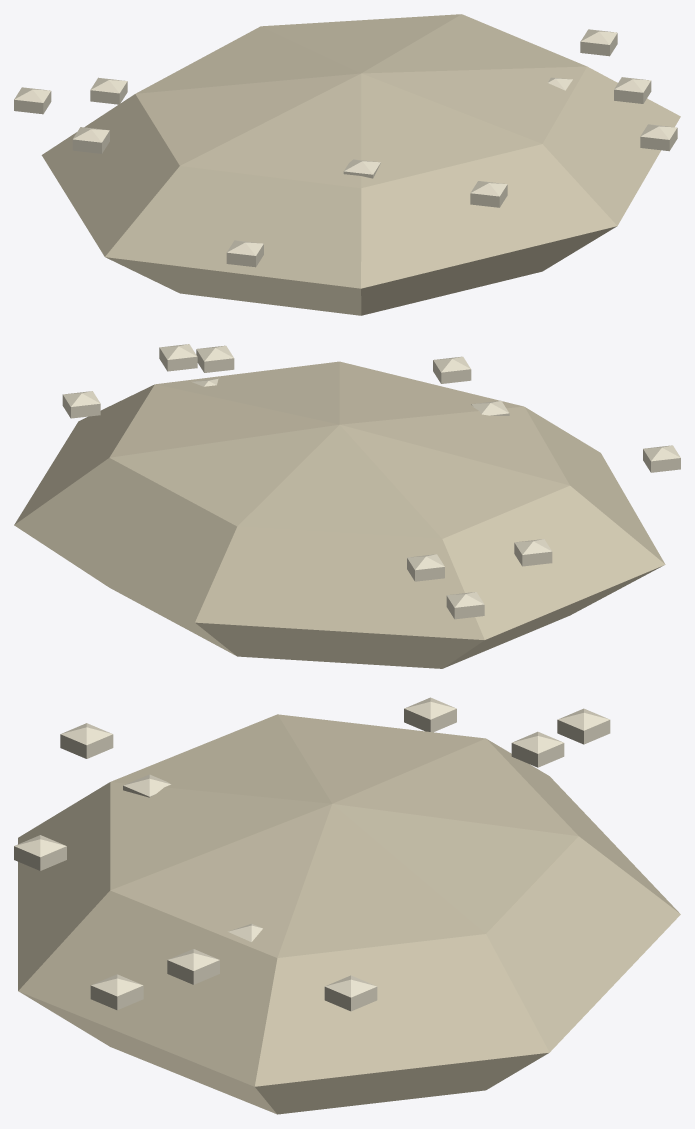
File: a3c_shell_heap.glb
The picture shows the model from 3 angles, top to bottom: view 1: azimuth 30°, elevation 25°; view 2: azimuth 150°, elevation 25°; view 3: azimuth 270°, elevation 25°; orthographic projection. The views are drawn at different scales.
Visible parts, largest first — view 1: a3c_shell_heap; view 2: a3c_shell_heap; view 3: a3c_shell_heap.
Boxes of the visible parts, box(x1,y1,x2,y2) form: a3c_shell_heap: box(14, 14, 680, 315); a3c_shell_heap: box(14, 344, 680, 668); a3c_shell_heap: box(14, 697, 680, 1114).
Bounding box in the file's own units: 1.87 × 0.56 × 1.53.
